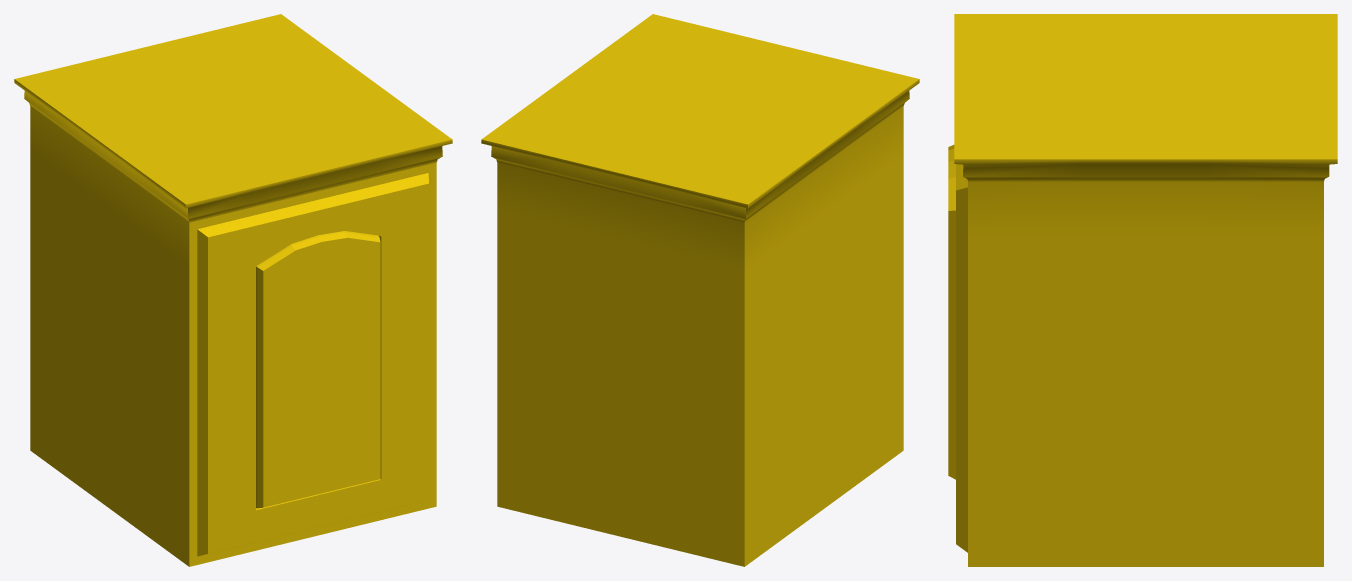
File: Kitchen_Cupboard_2a.FBX
3 renders of one model, left to right at view 1: azimuth 30°, elevation 25°; view 2: azimuth 150°, elevation 25°; view 3: azimuth 270°, elevation 25°, orthographic. The views are drawn at different scales.
Visible parts, largest first — view 1: Box005; view 2: Box005; view 3: Box005.
Boxes of the visible parts, <box> form: Box005: <box>14,14,452,566</box>; Box005: <box>481,14,919,566</box>; Box005: <box>948,14,1337,566</box>.
Size of the model in its own units: 0.7575 by 1 by 0.8569.
